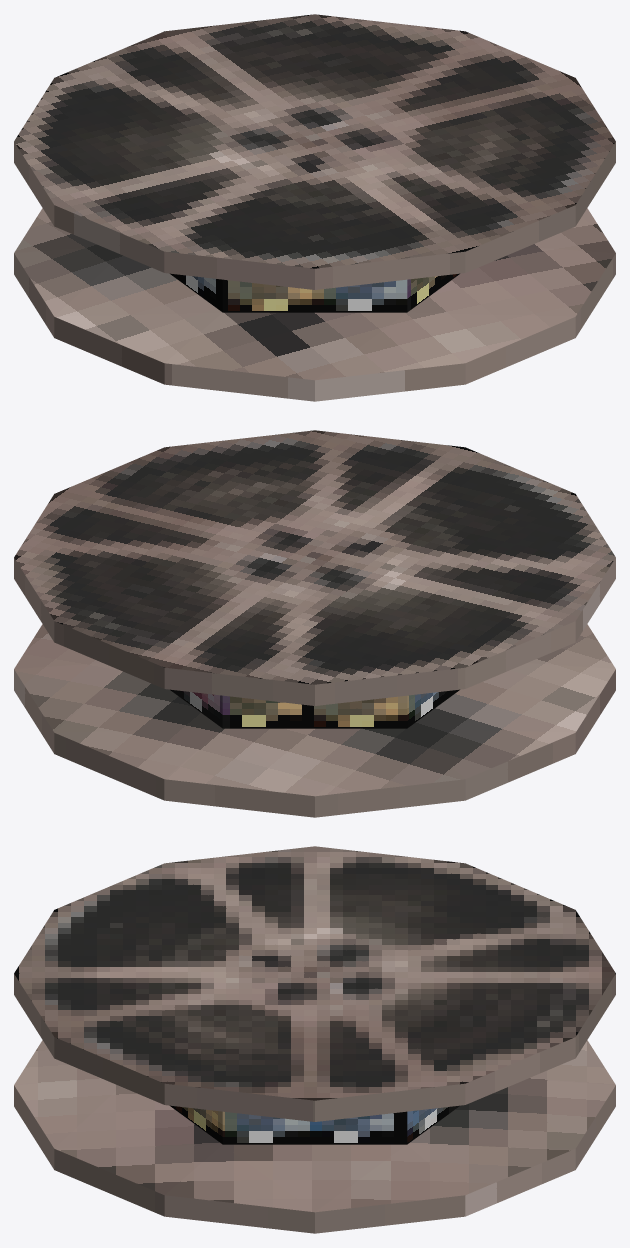
The model's file is filmreel.fbx.
3 views of the same model, one above another, from view 1: azimuth 30°, elevation 25°; view 2: azimuth 150°, elevation 25°; view 3: azimuth 270°, elevation 25° (orthographic).
Parts seen in each view (by area): view 1: filmreel; view 2: filmreel; view 3: filmreel.
Boxes of the visible parts, x1,y1,x2,y2 form: filmreel: (14,14,615,401); filmreel: (14,430,615,817); filmreel: (14,846,615,1233).
Bounding box in the file's own units: 100 × 24.38 × 100.
